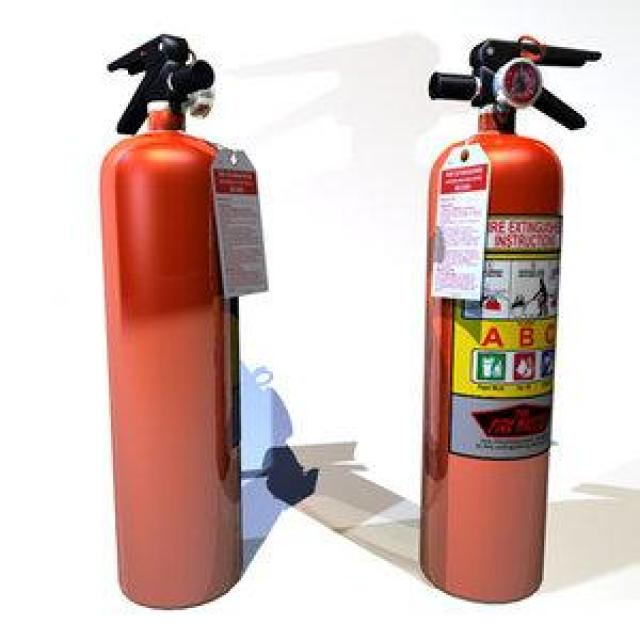fire_extinguisher: (406, 32, 607, 606), (90, 27, 250, 618)
